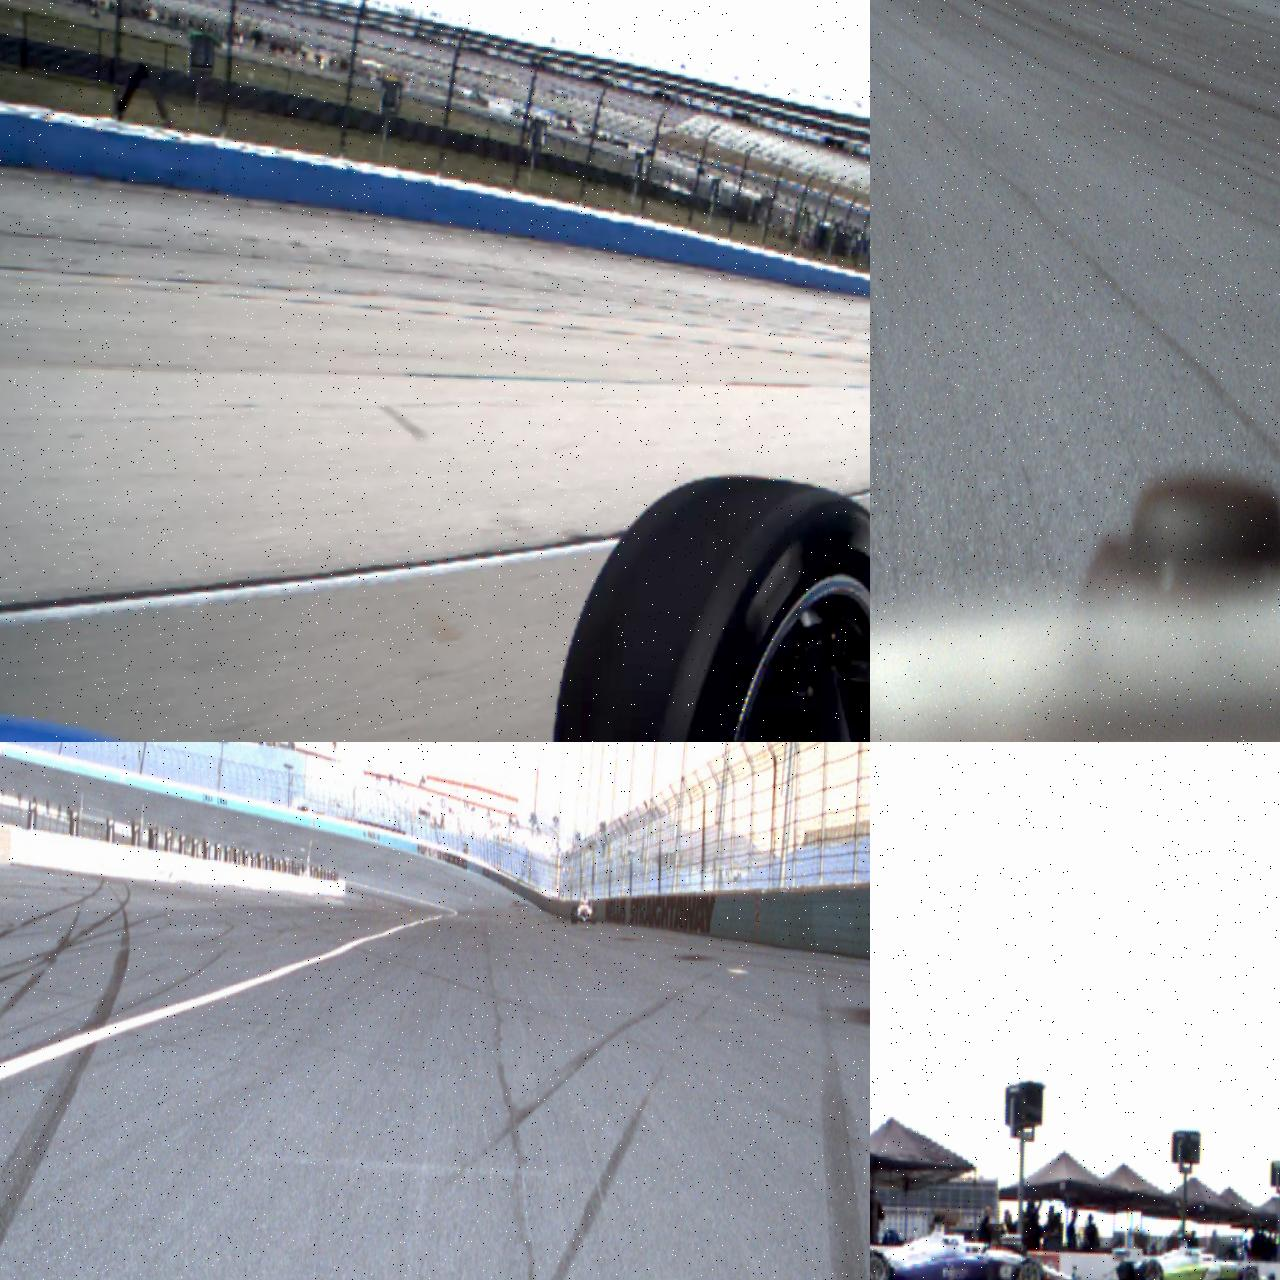AV: (870, 1208, 1082, 1280), (1115, 1232, 1280, 1280), (571, 891, 598, 925)
Wheel: (543, 468, 870, 742), (1012, 1255, 1044, 1280), (870, 1247, 891, 1280), (1139, 1258, 1163, 1280), (1115, 1260, 1135, 1280), (1238, 1264, 1259, 1280), (571, 906, 578, 924), (592, 906, 597, 924)
